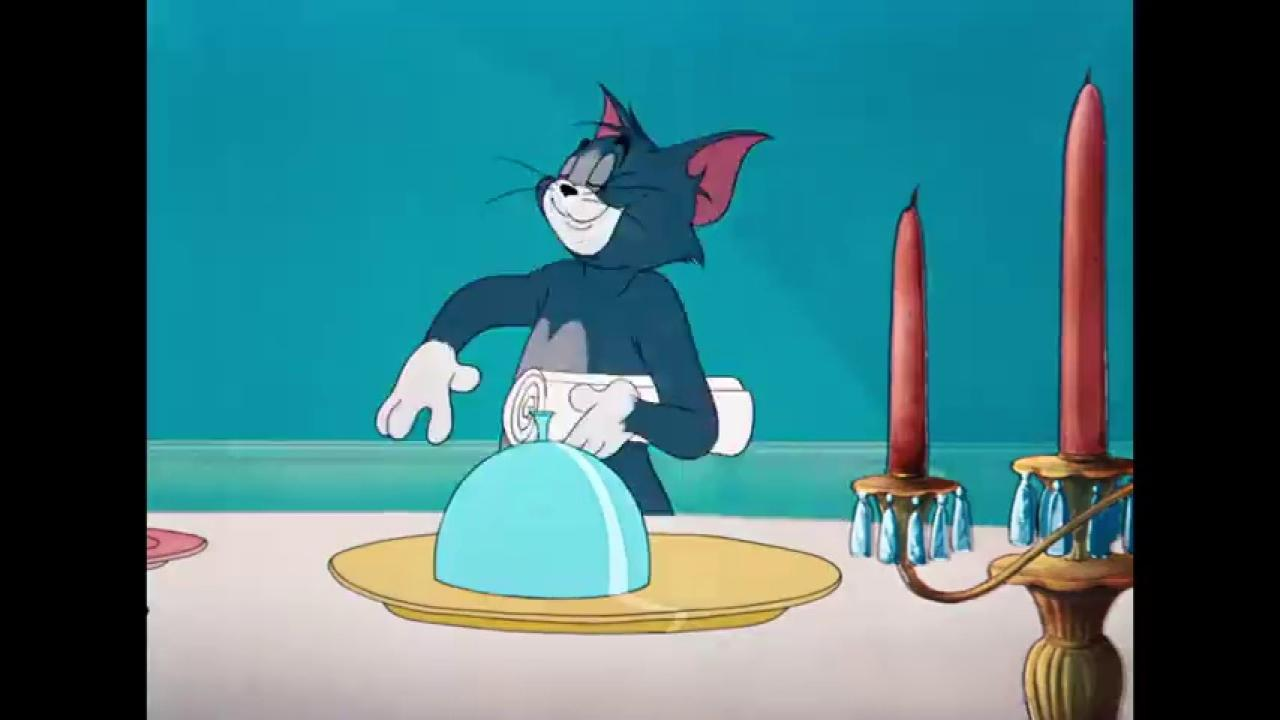Tom: (375, 81, 778, 515)
